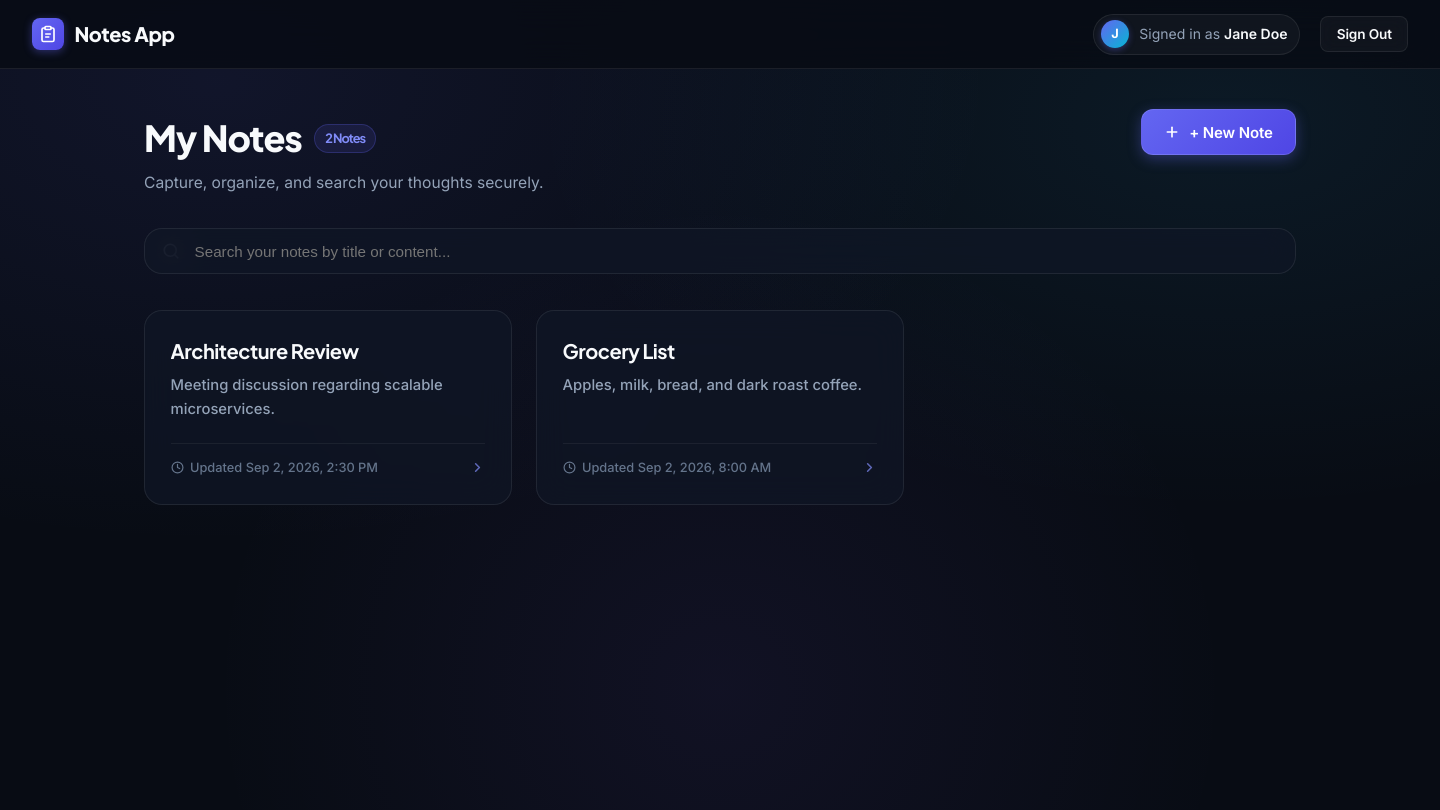
Scenario: Notes Dashboard Feature › displays empty search results state with clear search button
Expected: the heading "Architecture Review" is shown, [171,338,359,363]
In the search field with test id "notes-search-input": point(720, 251) [144,228,1296,274], type "NonExistent"
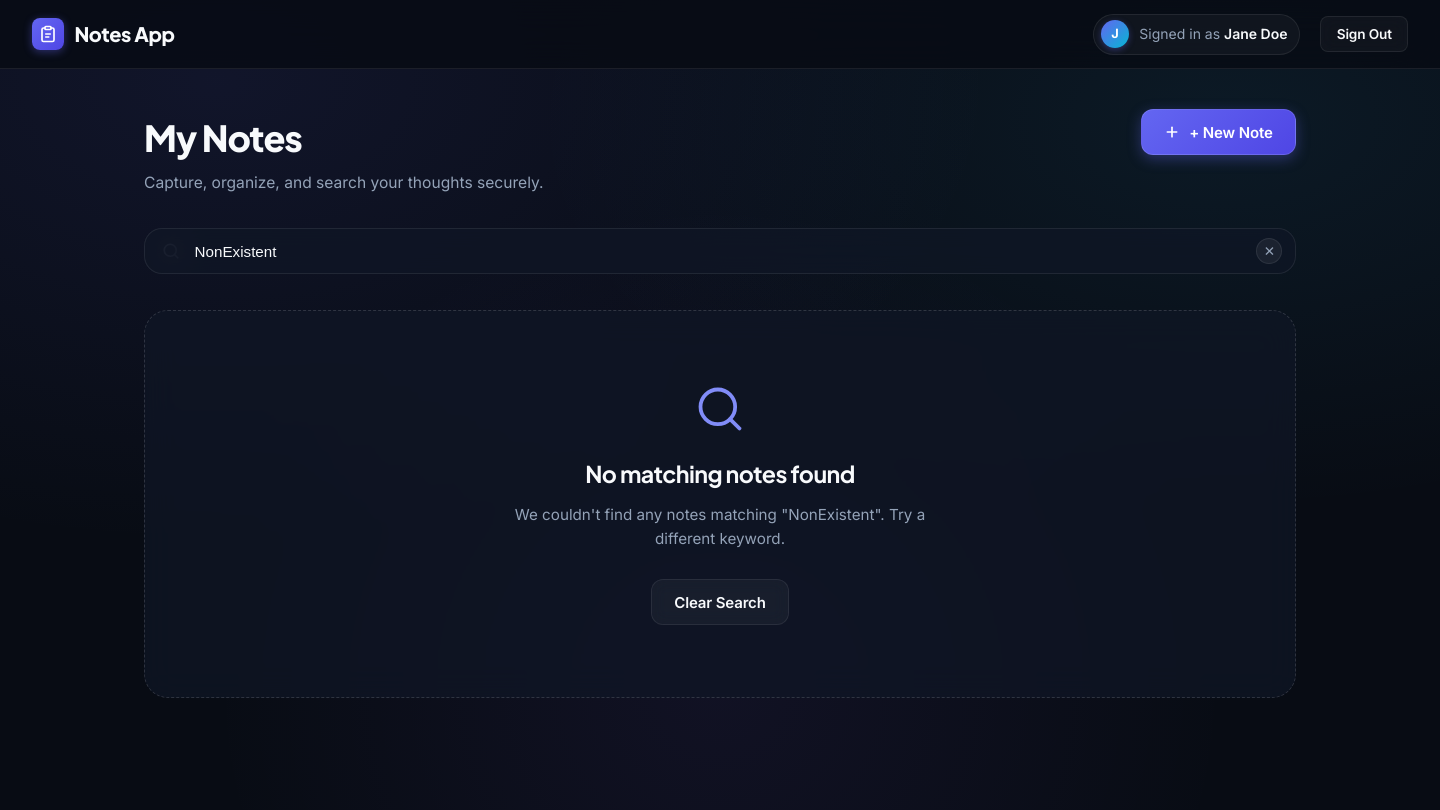
Expected: the heading "No matching notes found" is shown, [585,459,855,488]
Expected: the text "We couldn't find any notes matching \"NonExistent\"" is shown, [515,505,925,548]
Click the button with test id "clear-search-button": point(720, 602) [651,579,789,625]
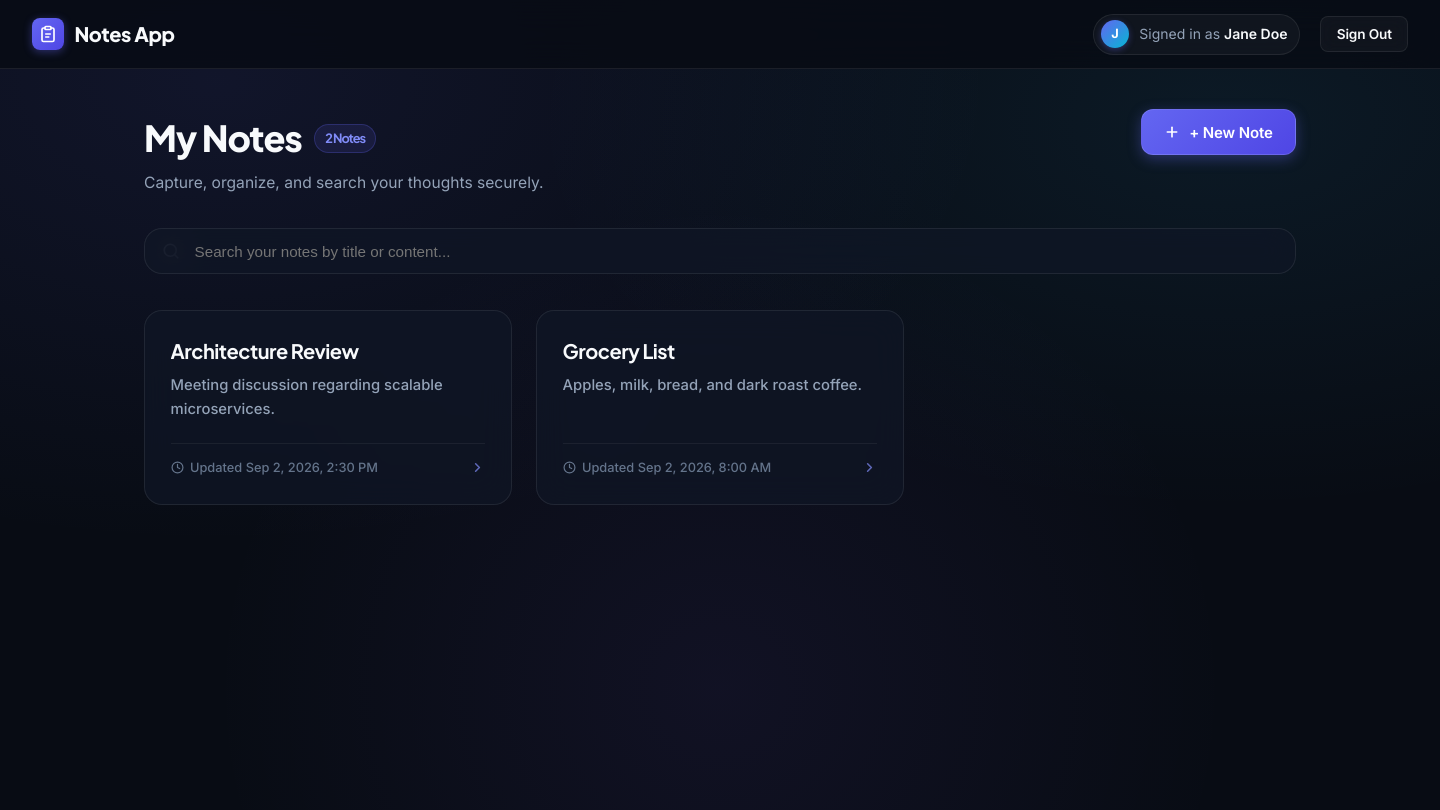
Expected: the heading "Architecture Review" is shown, [171,338,359,363]
